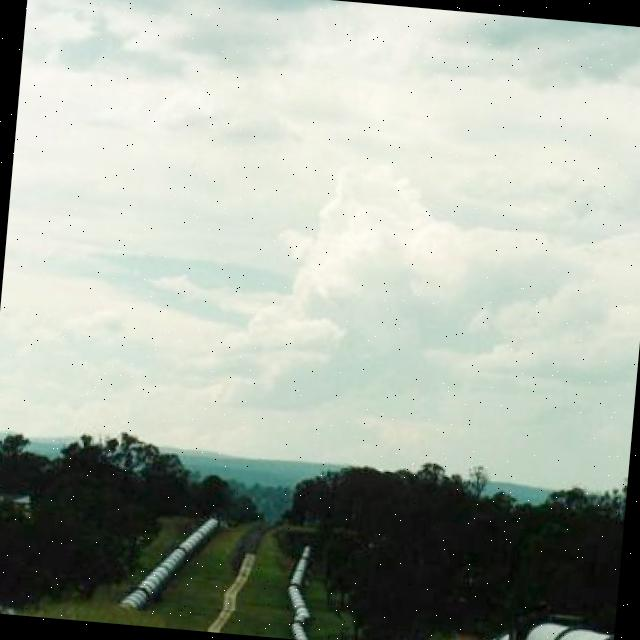Cs: (1, 4, 640, 443)
